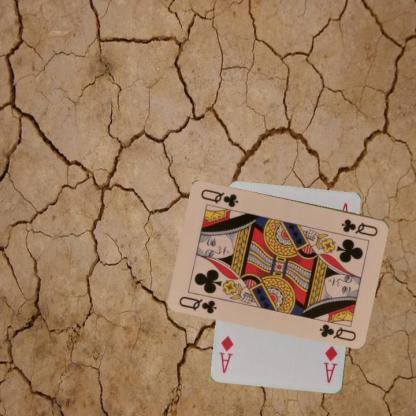Ad: (321, 343, 339, 385)
Qc: (176, 293, 218, 315), (339, 216, 380, 238)
